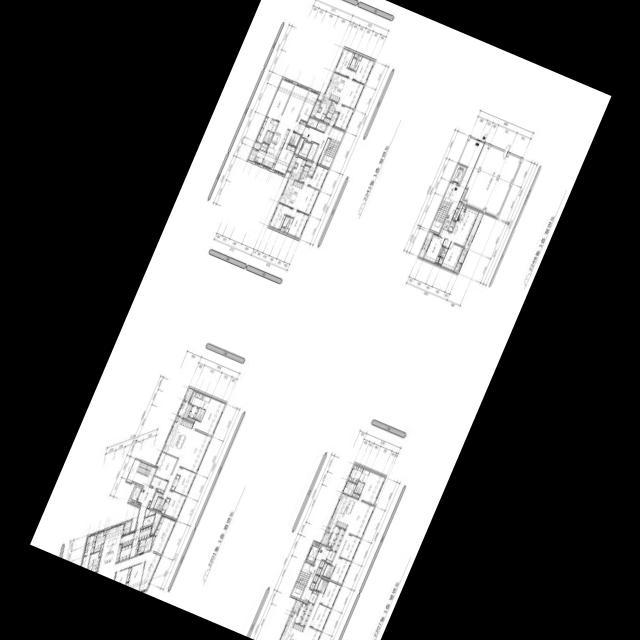background: (29, 0, 611, 640)
space_balconi: (458, 211, 483, 262), (418, 231, 433, 257), (183, 387, 193, 401), (122, 520, 131, 534)
space_bedroom: (192, 397, 225, 435), (266, 78, 294, 120), (150, 514, 176, 554), (359, 470, 385, 504), (273, 142, 295, 173), (296, 90, 318, 121), (154, 451, 177, 480), (164, 489, 186, 518), (174, 466, 196, 495), (441, 242, 463, 270), (269, 203, 292, 229), (310, 603, 331, 631), (423, 234, 444, 262), (125, 561, 145, 590), (287, 210, 308, 237), (330, 557, 351, 583), (340, 533, 360, 560), (320, 580, 340, 607), (353, 56, 373, 83), (335, 48, 354, 76), (334, 104, 353, 129), (308, 165, 327, 189), (114, 566, 131, 585), (170, 474, 180, 490), (161, 497, 170, 513)
space_dressroom: (256, 116, 272, 143), (83, 532, 97, 555), (348, 463, 363, 483), (189, 391, 203, 406), (188, 405, 198, 418)
space_elevator: (305, 541, 321, 563), (451, 164, 466, 184), (128, 484, 142, 504), (298, 139, 312, 157)
space_elevator_hall: (443, 137, 483, 216), (126, 459, 156, 529), (300, 545, 330, 601), (302, 125, 335, 162)
space_front: (330, 527, 345, 551), (299, 602, 313, 626), (150, 475, 168, 493), (129, 529, 140, 557), (439, 217, 451, 236), (118, 544, 132, 560), (138, 524, 152, 540), (308, 589, 318, 603), (307, 162, 317, 176), (296, 120, 306, 134), (329, 111, 339, 125), (325, 550, 335, 563)
space_kitchen: (314, 72, 348, 121), (279, 156, 306, 207), (162, 416, 193, 457), (98, 522, 124, 570), (327, 493, 358, 533), (261, 124, 289, 167), (280, 612, 304, 640), (451, 205, 471, 233), (294, 602, 307, 623), (327, 525, 340, 546)
space_living_room: (162, 428, 211, 498), (331, 500, 374, 565), (97, 551, 161, 591), (278, 84, 309, 143), (440, 208, 478, 247), (290, 175, 319, 217), (299, 592, 323, 640), (335, 70, 363, 111)
space_other: (462, 143, 520, 216), (317, 138, 330, 163), (254, 142, 268, 163), (177, 400, 192, 418), (93, 530, 105, 552), (120, 531, 134, 547), (149, 491, 162, 508), (342, 480, 356, 495), (151, 512, 161, 533), (435, 246, 447, 263), (306, 142, 318, 159), (142, 514, 154, 526), (295, 137, 304, 153), (455, 203, 463, 220), (306, 117, 318, 128), (315, 121, 327, 131), (447, 219, 456, 231), (144, 508, 155, 517), (320, 562, 327, 575), (314, 576, 321, 589), (460, 188, 466, 201), (454, 262, 461, 272), (253, 141, 261, 148), (99, 543, 103, 556), (305, 159, 312, 166), (151, 535, 155, 547), (453, 208, 458, 217), (323, 117, 330, 123), (313, 574, 318, 582), (186, 416, 194, 421), (352, 492, 359, 497), (310, 582, 315, 589), (319, 560, 324, 567), (316, 567, 321, 574), (174, 415, 179, 421), (457, 201, 461, 207), (147, 501, 151, 507), (280, 226, 284, 231), (136, 502, 140, 506), (354, 53, 358, 57), (271, 163, 274, 168), (103, 529, 106, 534), (326, 527, 329, 531), (294, 163, 297, 167), (318, 107, 321, 111)
space_outdoor_room: (287, 154, 298, 171), (310, 100, 321, 117), (247, 147, 258, 161), (321, 531, 331, 545), (292, 599, 302, 612)
space_staircase: (321, 128, 344, 167), (291, 561, 313, 598), (430, 198, 452, 232), (136, 461, 152, 476)
space_toilet: (263, 119, 278, 143), (87, 551, 100, 571), (325, 100, 337, 118), (298, 164, 310, 182), (349, 54, 362, 70), (358, 467, 370, 483), (282, 215, 293, 232), (322, 563, 334, 578), (288, 131, 300, 146), (153, 496, 165, 511), (316, 578, 328, 592), (199, 395, 210, 409), (143, 535, 152, 551), (81, 554, 90, 569), (194, 407, 202, 419), (197, 408, 205, 420), (357, 482, 364, 494), (354, 480, 361, 492), (138, 538, 146, 547), (137, 545, 144, 554)
